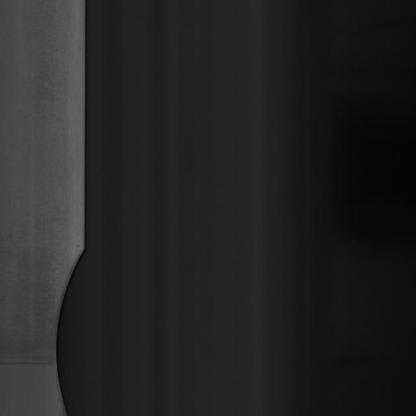crescent_gap: (49, 235, 96, 415)
welding_line: (0, 348, 60, 371)
